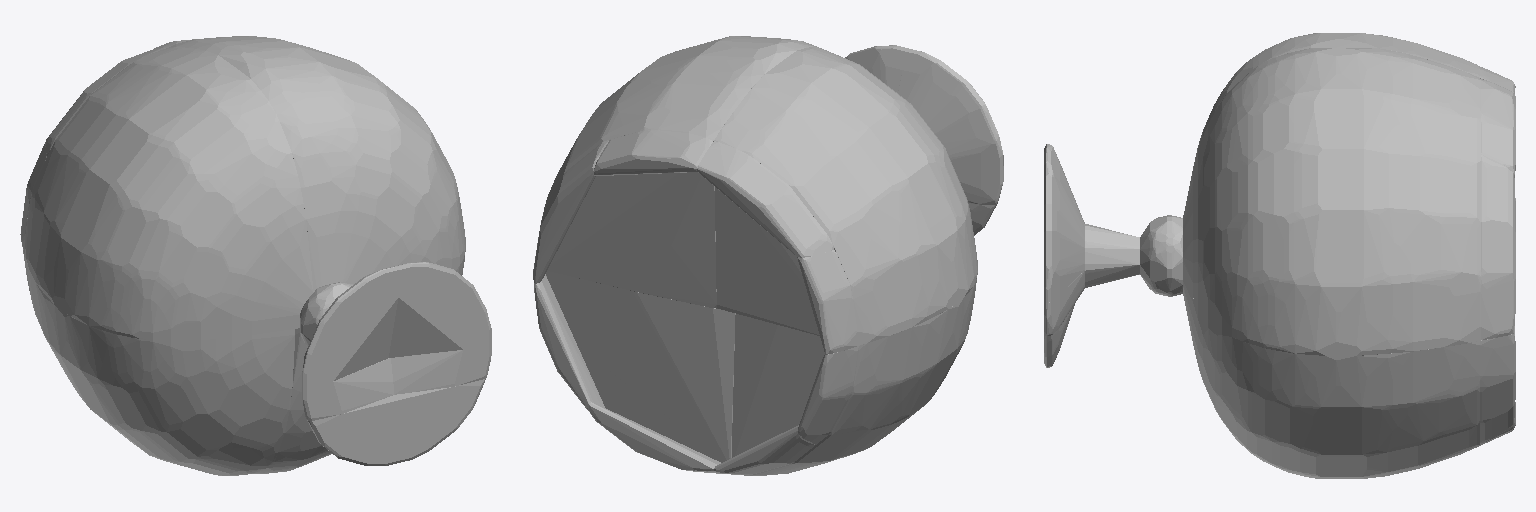
URDF robot description (root):
<robot name="root">
  <link name="link_coacd_convex_piece_0">
    <inertial>
      <origin xyz="0 0 0" rpy="0 0 0"/>
      <inertia ixx="6.48E-04" ixy="2.79E-07" ixz="1.01E-08" iyy="4.68E-05" iyz="1.44E-06" izz="6.48E-04"/>
    </inertial>
    <visual>
      <origin xyz="0 0 0" rpy="0 0 0"/>
      <geometry>
        <mesh filename="coacd_convex_piece_0.obj" scale="1.0000E+00 1.0000E+00 1.0000E+00"/>
      </geometry>
      <material name="">
        <color rgba="7.50E-01 7.50E-01 7.50E-01 1"/>
      </material>
    </visual>
    <collision>
      <origin xyz="0 0 0" rpy="0 0 0"/>
      <geometry>
        <mesh filename="coacd_convex_piece_0.obj" scale="1.0000E+00 1.0000E+00 1.0000E+00"/>
      </geometry>
    </collision>
  </link>
  <link name="link_coacd_convex_piece_1">
    <inertial>
      <origin xyz="0 0 0" rpy="0 0 0"/>
      <inertia ixx="1.17E-03" ixy="3.07E-07" ixz="-3.06E-08" iyy="1.68E-05" iyz="1.10E-06" izz="1.17E-03"/>
    </inertial>
    <visual>
      <origin xyz="0 0 0" rpy="0 0 0"/>
      <geometry>
        <mesh filename="coacd_convex_piece_1.obj" scale="1.0000E+00 1.0000E+00 1.0000E+00"/>
      </geometry>
      <material name="">
        <color rgba="7.50E-01 7.50E-01 7.50E-01 1"/>
      </material>
    </visual>
    <collision>
      <origin xyz="0 0 0" rpy="0 0 0"/>
      <geometry>
        <mesh filename="coacd_convex_piece_1.obj" scale="1.0000E+00 1.0000E+00 1.0000E+00"/>
      </geometry>
    </collision>
  </link>
  <joint name="link_coacd_convex_piece_1_joint" type="fixed">
    <origin xyz="0 0 0" rpy="0 0 0"/>
    <parent link="link_coacd_convex_piece_0"/>
    <child link="link_coacd_convex_piece_1"/>
  </joint>
  <link name="link_coacd_convex_piece_2">
    <inertial>
      <origin xyz="0 0 0" rpy="0 0 0"/>
      <inertia ixx="6.97E-02" ixy="-2.21E-02" ixz="-2.44E-02" iyy="8.62E-02" iyz="-2.44E-02" izz="6.52E-02"/>
    </inertial>
    <visual>
      <origin xyz="0 0 0" rpy="0 0 0"/>
      <geometry>
        <mesh filename="coacd_convex_piece_2.obj" scale="1.0000E+00 1.0000E+00 1.0000E+00"/>
      </geometry>
      <material name="">
        <color rgba="7.50E-01 7.50E-01 7.50E-01 1"/>
      </material>
    </visual>
    <collision>
      <origin xyz="0 0 0" rpy="0 0 0"/>
      <geometry>
        <mesh filename="coacd_convex_piece_2.obj" scale="1.0000E+00 1.0000E+00 1.0000E+00"/>
      </geometry>
    </collision>
  </link>
  <joint name="link_coacd_convex_piece_2_joint" type="fixed">
    <origin xyz="0 0 0" rpy="0 0 0"/>
    <parent link="link_coacd_convex_piece_1"/>
    <child link="link_coacd_convex_piece_2"/>
  </joint>
  <link name="link_coacd_convex_piece_3">
    <inertial>
      <origin xyz="0 0 0" rpy="0 0 0"/>
      <inertia ixx="5.11E-02" ixy="2.19E-02" ixz="2.43E-02" iyy="7.31E-02" iyz="-1.83E-02" izz="5.91E-02"/>
    </inertial>
    <visual>
      <origin xyz="0 0 0" rpy="0 0 0"/>
      <geometry>
        <mesh filename="coacd_convex_piece_3.obj" scale="1.0000E+00 1.0000E+00 1.0000E+00"/>
      </geometry>
      <material name="">
        <color rgba="7.50E-01 7.50E-01 7.50E-01 1"/>
      </material>
    </visual>
    <collision>
      <origin xyz="0 0 0" rpy="0 0 0"/>
      <geometry>
        <mesh filename="coacd_convex_piece_3.obj" scale="1.0000E+00 1.0000E+00 1.0000E+00"/>
      </geometry>
    </collision>
  </link>
  <joint name="link_coacd_convex_piece_3_joint" type="fixed">
    <origin xyz="0 0 0" rpy="0 0 0"/>
    <parent link="link_coacd_convex_piece_2"/>
    <child link="link_coacd_convex_piece_3"/>
  </joint>
  <link name="link_coacd_convex_piece_4">
    <inertial>
      <origin xyz="0 0 0" rpy="0 0 0"/>
      <inertia ixx="7.57E-02" ixy="-1.96E-02" ixz="2.31E-02" iyy="8.86E-02" iyz="2.71E-02" izz="6.23E-02"/>
    </inertial>
    <visual>
      <origin xyz="0 0 0" rpy="0 0 0"/>
      <geometry>
        <mesh filename="coacd_convex_piece_4.obj" scale="1.0000E+00 1.0000E+00 1.0000E+00"/>
      </geometry>
      <material name="">
        <color rgba="7.50E-01 7.50E-01 7.50E-01 1"/>
      </material>
    </visual>
    <collision>
      <origin xyz="0 0 0" rpy="0 0 0"/>
      <geometry>
        <mesh filename="coacd_convex_piece_4.obj" scale="1.0000E+00 1.0000E+00 1.0000E+00"/>
      </geometry>
    </collision>
  </link>
  <joint name="link_coacd_convex_piece_4_joint" type="fixed">
    <origin xyz="0 0 0" rpy="0 0 0"/>
    <parent link="link_coacd_convex_piece_3"/>
    <child link="link_coacd_convex_piece_4"/>
  </joint>
  <link name="link_coacd_convex_piece_5">
    <inertial>
      <origin xyz="0 0 0" rpy="0 0 0"/>
      <inertia ixx="4.11E-02" ixy="1.92E-02" ixz="-2.30E-02" iyy="6.34E-02" iyz="1.54E-02" izz="5.10E-02"/>
    </inertial>
    <visual>
      <origin xyz="0 0 0" rpy="0 0 0"/>
      <geometry>
        <mesh filename="coacd_convex_piece_5.obj" scale="1.0000E+00 1.0000E+00 1.0000E+00"/>
      </geometry>
      <material name="">
        <color rgba="7.50E-01 7.50E-01 7.50E-01 1"/>
      </material>
    </visual>
    <collision>
      <origin xyz="0 0 0" rpy="0 0 0"/>
      <geometry>
        <mesh filename="coacd_convex_piece_5.obj" scale="1.0000E+00 1.0000E+00 1.0000E+00"/>
      </geometry>
    </collision>
  </link>
  <joint name="link_coacd_convex_piece_5_joint" type="fixed">
    <origin xyz="0 0 0" rpy="0 0 0"/>
    <parent link="link_coacd_convex_piece_4"/>
    <child link="link_coacd_convex_piece_5"/>
  </joint>
  <link name="link_coacd_convex_piece_6">
    <inertial>
      <origin xyz="0 0 0" rpy="0 0 0"/>
      <inertia ixx="3.61E-03" ixy="7.22E-04" ixz="-1.24E-04" iyy="3.80E-04" iyz="7.20E-04" izz="3.61E-03"/>
    </inertial>
    <visual>
      <origin xyz="0 0 0" rpy="0 0 0"/>
      <geometry>
        <mesh filename="coacd_convex_piece_6.obj" scale="1.0000E+00 1.0000E+00 1.0000E+00"/>
      </geometry>
      <material name="">
        <color rgba="7.50E-01 7.50E-01 7.50E-01 1"/>
      </material>
    </visual>
    <collision>
      <origin xyz="0 0 0" rpy="0 0 0"/>
      <geometry>
        <mesh filename="coacd_convex_piece_6.obj" scale="1.0000E+00 1.0000E+00 1.0000E+00"/>
      </geometry>
    </collision>
  </link>
  <joint name="link_coacd_convex_piece_6_joint" type="fixed">
    <origin xyz="0 0 0" rpy="0 0 0"/>
    <parent link="link_coacd_convex_piece_5"/>
    <child link="link_coacd_convex_piece_6"/>
  </joint>
  <link name="link_coacd_convex_piece_7">
    <inertial>
      <origin xyz="0 0 0" rpy="0 0 0"/>
      <inertia ixx="3.65E-03" ixy="-7.22E-04" ixz="1.24E-04" iyy="3.83E-04" iyz="7.28E-04" izz="3.65E-03"/>
    </inertial>
    <visual>
      <origin xyz="0 0 0" rpy="0 0 0"/>
      <geometry>
        <mesh filename="coacd_convex_piece_7.obj" scale="1.0000E+00 1.0000E+00 1.0000E+00"/>
      </geometry>
      <material name="">
        <color rgba="7.50E-01 7.50E-01 7.50E-01 1"/>
      </material>
    </visual>
    <collision>
      <origin xyz="0 0 0" rpy="0 0 0"/>
      <geometry>
        <mesh filename="coacd_convex_piece_7.obj" scale="1.0000E+00 1.0000E+00 1.0000E+00"/>
      </geometry>
    </collision>
  </link>
  <joint name="link_coacd_convex_piece_7_joint" type="fixed">
    <origin xyz="0 0 0" rpy="0 0 0"/>
    <parent link="link_coacd_convex_piece_6"/>
    <child link="link_coacd_convex_piece_7"/>
  </joint>
  <link name="link_coacd_convex_piece_8">
    <inertial>
      <origin xyz="0 0 0" rpy="0 0 0"/>
      <inertia ixx="3.77E-03" ixy="2.80E-06" ixz="7.20E-07" iyy="4.77E-04" iyz="-1.07E-03" izz="3.59E-03"/>
    </inertial>
    <visual>
      <origin xyz="0 0 0" rpy="0 0 0"/>
      <geometry>
        <mesh filename="coacd_convex_piece_8.obj" scale="1.0000E+00 1.0000E+00 1.0000E+00"/>
      </geometry>
      <material name="">
        <color rgba="7.50E-01 7.50E-01 7.50E-01 1"/>
      </material>
    </visual>
    <collision>
      <origin xyz="0 0 0" rpy="0 0 0"/>
      <geometry>
        <mesh filename="coacd_convex_piece_8.obj" scale="1.0000E+00 1.0000E+00 1.0000E+00"/>
      </geometry>
    </collision>
  </link>
  <joint name="link_coacd_convex_piece_8_joint" type="fixed">
    <origin xyz="0 0 0" rpy="0 0 0"/>
    <parent link="link_coacd_convex_piece_7"/>
    <child link="link_coacd_convex_piece_8"/>
  </joint>
  <link name="link_coacd_convex_piece_9">
    <inertial>
      <origin xyz="0 0 0" rpy="0 0 0"/>
      <inertia ixx="2.44E-03" ixy="-1.56E-03" ixz="-5.02E-04" iyy="1.42E-03" iyz="-7.84E-04" izz="3.17E-03"/>
    </inertial>
    <visual>
      <origin xyz="0 0 0" rpy="0 0 0"/>
      <geometry>
        <mesh filename="coacd_convex_piece_9.obj" scale="1.0000E+00 1.0000E+00 1.0000E+00"/>
      </geometry>
      <material name="">
        <color rgba="7.50E-01 7.50E-01 7.50E-01 1"/>
      </material>
    </visual>
    <collision>
      <origin xyz="0 0 0" rpy="0 0 0"/>
      <geometry>
        <mesh filename="coacd_convex_piece_9.obj" scale="1.0000E+00 1.0000E+00 1.0000E+00"/>
      </geometry>
    </collision>
  </link>
  <joint name="link_coacd_convex_piece_9_joint" type="fixed">
    <origin xyz="0 0 0" rpy="0 0 0"/>
    <parent link="link_coacd_convex_piece_8"/>
    <child link="link_coacd_convex_piece_9"/>
  </joint>
  <link name="link_coacd_convex_piece_10">
    <inertial>
      <origin xyz="0 0 0" rpy="0 0 0"/>
      <inertia ixx="2.11E-03" ixy="-2.82E-04" ixz="-2.03E-04" iyy="8.89E-04" iyz="-1.06E-03" izz="1.39E-03"/>
    </inertial>
    <visual>
      <origin xyz="0 0 0" rpy="0 0 0"/>
      <geometry>
        <mesh filename="coacd_convex_piece_10.obj" scale="1.0000E+00 1.0000E+00 1.0000E+00"/>
      </geometry>
      <material name="">
        <color rgba="7.50E-01 7.50E-01 7.50E-01 1"/>
      </material>
    </visual>
    <collision>
      <origin xyz="0 0 0" rpy="0 0 0"/>
      <geometry>
        <mesh filename="coacd_convex_piece_10.obj" scale="1.0000E+00 1.0000E+00 1.0000E+00"/>
      </geometry>
    </collision>
  </link>
  <joint name="link_coacd_convex_piece_10_joint" type="fixed">
    <origin xyz="0 0 0" rpy="0 0 0"/>
    <parent link="link_coacd_convex_piece_9"/>
    <child link="link_coacd_convex_piece_10"/>
  </joint>
  <link name="link_coacd_convex_piece_11">
    <inertial>
      <origin xyz="0 0 0" rpy="0 0 0"/>
      <inertia ixx="2.54E-03" ixy="7.53E-04" ixz="4.73E-04" iyy="1.18E-03" iyz="-1.23E-03" izz="2.06E-03"/>
    </inertial>
    <visual>
      <origin xyz="0 0 0" rpy="0 0 0"/>
      <geometry>
        <mesh filename="coacd_convex_piece_11.obj" scale="1.0000E+00 1.0000E+00 1.0000E+00"/>
      </geometry>
      <material name="">
        <color rgba="7.50E-01 7.50E-01 7.50E-01 1"/>
      </material>
    </visual>
    <collision>
      <origin xyz="0 0 0" rpy="0 0 0"/>
      <geometry>
        <mesh filename="coacd_convex_piece_11.obj" scale="1.0000E+00 1.0000E+00 1.0000E+00"/>
      </geometry>
    </collision>
  </link>
  <joint name="link_coacd_convex_piece_11_joint" type="fixed">
    <origin xyz="0 0 0" rpy="0 0 0"/>
    <parent link="link_coacd_convex_piece_10"/>
    <child link="link_coacd_convex_piece_11"/>
  </joint>
  <link name="link_coacd_convex_piece_12">
    <inertial>
      <origin xyz="0 0 0" rpy="0 0 0"/>
      <inertia ixx="9.43E-04" ixy="7.32E-04" ixz="1.58E-04" iyy="6.22E-04" iyz="-2.12E-04" izz="1.44E-03"/>
    </inertial>
    <visual>
      <origin xyz="0 0 0" rpy="0 0 0"/>
      <geometry>
        <mesh filename="coacd_convex_piece_12.obj" scale="1.0000E+00 1.0000E+00 1.0000E+00"/>
      </geometry>
      <material name="">
        <color rgba="7.50E-01 7.50E-01 7.50E-01 1"/>
      </material>
    </visual>
    <collision>
      <origin xyz="0 0 0" rpy="0 0 0"/>
      <geometry>
        <mesh filename="coacd_convex_piece_12.obj" scale="1.0000E+00 1.0000E+00 1.0000E+00"/>
      </geometry>
    </collision>
  </link>
  <joint name="link_coacd_convex_piece_12_joint" type="fixed">
    <origin xyz="0 0 0" rpy="0 0 0"/>
    <parent link="link_coacd_convex_piece_11"/>
    <child link="link_coacd_convex_piece_12"/>
  </joint>
  <link name="link_coacd_convex_piece_13">
    <inertial>
      <origin xyz="0 0 0" rpy="0 0 0"/>
      <inertia ixx="2.00E-03" ixy="-1.29E-03" ixz="4.35E-04" iyy="1.19E-03" iyz="6.66E-04" izz="2.62E-03"/>
    </inertial>
    <visual>
      <origin xyz="0 0 0" rpy="0 0 0"/>
      <geometry>
        <mesh filename="coacd_convex_piece_13.obj" scale="1.0000E+00 1.0000E+00 1.0000E+00"/>
      </geometry>
      <material name="">
        <color rgba="7.50E-01 7.50E-01 7.50E-01 1"/>
      </material>
    </visual>
    <collision>
      <origin xyz="0 0 0" rpy="0 0 0"/>
      <geometry>
        <mesh filename="coacd_convex_piece_13.obj" scale="1.0000E+00 1.0000E+00 1.0000E+00"/>
      </geometry>
    </collision>
  </link>
  <joint name="link_coacd_convex_piece_13_joint" type="fixed">
    <origin xyz="0 0 0" rpy="0 0 0"/>
    <parent link="link_coacd_convex_piece_12"/>
    <child link="link_coacd_convex_piece_13"/>
  </joint>
  <link name="link_coacd_convex_piece_14">
    <inertial>
      <origin xyz="0 0 0" rpy="0 0 0"/>
      <inertia ixx="3.01E-03" ixy="-3.54E-04" ixz="2.50E-04" iyy="1.26E-03" iyz="1.52E-03" izz="1.99E-03"/>
    </inertial>
    <visual>
      <origin xyz="0 0 0" rpy="0 0 0"/>
      <geometry>
        <mesh filename="coacd_convex_piece_14.obj" scale="1.0000E+00 1.0000E+00 1.0000E+00"/>
      </geometry>
      <material name="">
        <color rgba="7.50E-01 7.50E-01 7.50E-01 1"/>
      </material>
    </visual>
    <collision>
      <origin xyz="0 0 0" rpy="0 0 0"/>
      <geometry>
        <mesh filename="coacd_convex_piece_14.obj" scale="1.0000E+00 1.0000E+00 1.0000E+00"/>
      </geometry>
    </collision>
  </link>
  <joint name="link_coacd_convex_piece_14_joint" type="fixed">
    <origin xyz="0 0 0" rpy="0 0 0"/>
    <parent link="link_coacd_convex_piece_13"/>
    <child link="link_coacd_convex_piece_14"/>
  </joint>
  <link name="link_coacd_convex_piece_15">
    <inertial>
      <origin xyz="0 0 0" rpy="0 0 0"/>
      <inertia ixx="1.79E-03" ixy="5.61E-04" ixz="-3.61E-04" iyy="8.50E-04" iyz="8.73E-04" izz="1.46E-03"/>
    </inertial>
    <visual>
      <origin xyz="0 0 0" rpy="0 0 0"/>
      <geometry>
        <mesh filename="coacd_convex_piece_15.obj" scale="1.0000E+00 1.0000E+00 1.0000E+00"/>
      </geometry>
      <material name="">
        <color rgba="7.50E-01 7.50E-01 7.50E-01 1"/>
      </material>
    </visual>
    <collision>
      <origin xyz="0 0 0" rpy="0 0 0"/>
      <geometry>
        <mesh filename="coacd_convex_piece_15.obj" scale="1.0000E+00 1.0000E+00 1.0000E+00"/>
      </geometry>
    </collision>
  </link>
  <joint name="link_coacd_convex_piece_15_joint" type="fixed">
    <origin xyz="0 0 0" rpy="0 0 0"/>
    <parent link="link_coacd_convex_piece_14"/>
    <child link="link_coacd_convex_piece_15"/>
  </joint>
  <link name="link_coacd_convex_piece_16">
    <inertial>
      <origin xyz="0 0 0" rpy="0 0 0"/>
      <inertia ixx="1.05E-03" ixy="7.84E-04" ixz="-2.16E-04" iyy="6.98E-04" iyz="2.94E-04" izz="1.55E-03"/>
    </inertial>
    <visual>
      <origin xyz="0 0 0" rpy="0 0 0"/>
      <geometry>
        <mesh filename="coacd_convex_piece_16.obj" scale="1.0000E+00 1.0000E+00 1.0000E+00"/>
      </geometry>
      <material name="">
        <color rgba="7.50E-01 7.50E-01 7.50E-01 1"/>
      </material>
    </visual>
    <collision>
      <origin xyz="0 0 0" rpy="0 0 0"/>
      <geometry>
        <mesh filename="coacd_convex_piece_16.obj" scale="1.0000E+00 1.0000E+00 1.0000E+00"/>
      </geometry>
    </collision>
  </link>
  <joint name="link_coacd_convex_piece_16_joint" type="fixed">
    <origin xyz="0 0 0" rpy="0 0 0"/>
    <parent link="link_coacd_convex_piece_15"/>
    <child link="link_coacd_convex_piece_16"/>
  </joint>
  <link name="link_coacd_convex_piece_17">
    <inertial>
      <origin xyz="0 0 0" rpy="0 0 0"/>
      <inertia ixx="1.52E-03" ixy="3.78E-04" ixz="3.24E-05" iyy="1.27E-04" iyz="-1.44E-04" izz="1.61E-03"/>
    </inertial>
    <visual>
      <origin xyz="0 0 0" rpy="0 0 0"/>
      <geometry>
        <mesh filename="coacd_convex_piece_17.obj" scale="1.0000E+00 1.0000E+00 1.0000E+00"/>
      </geometry>
      <material name="">
        <color rgba="7.50E-01 7.50E-01 7.50E-01 1"/>
      </material>
    </visual>
    <collision>
      <origin xyz="0 0 0" rpy="0 0 0"/>
      <geometry>
        <mesh filename="coacd_convex_piece_17.obj" scale="1.0000E+00 1.0000E+00 1.0000E+00"/>
      </geometry>
    </collision>
  </link>
  <joint name="link_coacd_convex_piece_17_joint" type="fixed">
    <origin xyz="0 0 0" rpy="0 0 0"/>
    <parent link="link_coacd_convex_piece_16"/>
    <child link="link_coacd_convex_piece_17"/>
  </joint>
  <link name="link_coacd_convex_piece_18">
    <inertial>
      <origin xyz="0 0 0" rpy="0 0 0"/>
      <inertia ixx="1.64E-03" ixy="-3.81E-04" ixz="-3.27E-05" iyy="1.29E-04" iyz="-1.56E-04" izz="1.73E-03"/>
    </inertial>
    <visual>
      <origin xyz="0 0 0" rpy="0 0 0"/>
      <geometry>
        <mesh filename="coacd_convex_piece_18.obj" scale="1.0000E+00 1.0000E+00 1.0000E+00"/>
      </geometry>
      <material name="">
        <color rgba="7.50E-01 7.50E-01 7.50E-01 1"/>
      </material>
    </visual>
    <collision>
      <origin xyz="0 0 0" rpy="0 0 0"/>
      <geometry>
        <mesh filename="coacd_convex_piece_18.obj" scale="1.0000E+00 1.0000E+00 1.0000E+00"/>
      </geometry>
    </collision>
  </link>
  <joint name="link_coacd_convex_piece_18_joint" type="fixed">
    <origin xyz="0 0 0" rpy="0 0 0"/>
    <parent link="link_coacd_convex_piece_17"/>
    <child link="link_coacd_convex_piece_18"/>
  </joint>
</robot>

--- What the picture shows (computed from the rendered views, not written in the file) ---
Views: 3 orthographic renders of the robot side by side, from view 1: azimuth 30°, elevation 25°; view 2: azimuth 150°, elevation 25°; view 3: azimuth 270°, elevation 25°.
Robot: root — 19 links, 18 joints (18 fixed); root link link_coacd_convex_piece_0; default pose: every joint at zero.
Visible links, largest first — view 1: link_coacd_convex_piece_3, link_coacd_convex_piece_2, link_coacd_convex_piece_5, link_coacd_convex_piece_8, link_coacd_convex_piece_6, link_coacd_convex_piece_7, link_coacd_convex_piece_17, link_coacd_convex_piece_18, link_coacd_convex_piece_4, link_coacd_convex_piece_0, link_coacd_convex_piece_11, link_coacd_convex_piece_12; view 2: link_coacd_convex_piece_3, link_coacd_convex_piece_2, link_coacd_convex_piece_4, link_coacd_convex_piece_5, link_coacd_convex_piece_7, link_coacd_convex_piece_11, link_coacd_convex_piece_10, link_coacd_convex_piece_12, link_coacd_convex_piece_9, link_coacd_convex_piece_16, link_coacd_convex_piece_13, link_coacd_convex_piece_14 (+3 smaller); view 3: link_coacd_convex_piece_2, link_coacd_convex_piece_4, link_coacd_convex_piece_9, link_coacd_convex_piece_6, link_coacd_convex_piece_3, link_coacd_convex_piece_13, link_coacd_convex_piece_0, link_coacd_convex_piece_1, link_coacd_convex_piece_10, link_coacd_convex_piece_17, link_coacd_convex_piece_8.
Boxes of the visible links, x1,y1,x2,y2 form: link_coacd_convex_piece_3: [25, 47, 313, 340]; link_coacd_convex_piece_2: [169, 36, 465, 291]; link_coacd_convex_piece_5: [25, 258, 294, 475]; link_coacd_convex_piece_8: [307, 379, 485, 465]; link_coacd_convex_piece_6: [389, 262, 491, 357]; link_coacd_convex_piece_7: [302, 266, 398, 387]; link_coacd_convex_piece_17: [391, 342, 491, 394]; link_coacd_convex_piece_18: [302, 358, 393, 420]; link_coacd_convex_piece_4: [254, 251, 465, 473]; link_coacd_convex_piece_0: [300, 282, 353, 347]; link_coacd_convex_piece_11: [45, 48, 165, 155]; link_coacd_convex_piece_12: [20, 142, 46, 252]; link_coacd_convex_piece_3: [714, 47, 977, 345]; link_coacd_convex_piece_2: [543, 36, 818, 308]; link_coacd_convex_piece_4: [546, 271, 735, 462]; link_coacd_convex_piece_5: [732, 279, 976, 475]; link_coacd_convex_piece_7: [898, 49, 1003, 170]; link_coacd_convex_piece_11: [697, 141, 833, 257]; link_coacd_convex_piece_10: [594, 130, 712, 175]; link_coacd_convex_piece_12: [797, 250, 857, 354]; link_coacd_convex_piece_9: [533, 140, 608, 283]; link_coacd_convex_piece_16: [798, 346, 858, 444]; link_coacd_convex_piece_13: [534, 274, 604, 413]; link_coacd_convex_piece_14: [589, 402, 724, 473]; link_coacd_convex_piece_2: [1183, 48, 1480, 355]; link_coacd_convex_piece_4: [1183, 277, 1479, 478]; link_coacd_convex_piece_9: [1481, 154, 1515, 339]; link_coacd_convex_piece_6: [1044, 156, 1084, 302]; link_coacd_convex_piece_3: [1186, 33, 1479, 201]; link_coacd_convex_piece_13: [1480, 334, 1515, 442]; link_coacd_convex_piece_0: [1140, 215, 1182, 296]; link_coacd_convex_piece_1: [1085, 224, 1139, 287]; link_coacd_convex_piece_10: [1481, 79, 1515, 174]; link_coacd_convex_piece_17: [1044, 271, 1084, 335]; link_coacd_convex_piece_8: [1044, 305, 1074, 367].
Size in the robot's own frame: 1.51 by 1.58 by 1.51 metres.
Meshes: 19 distinct files referenced, 19 mesh visuals loaded (19 OBJ).
